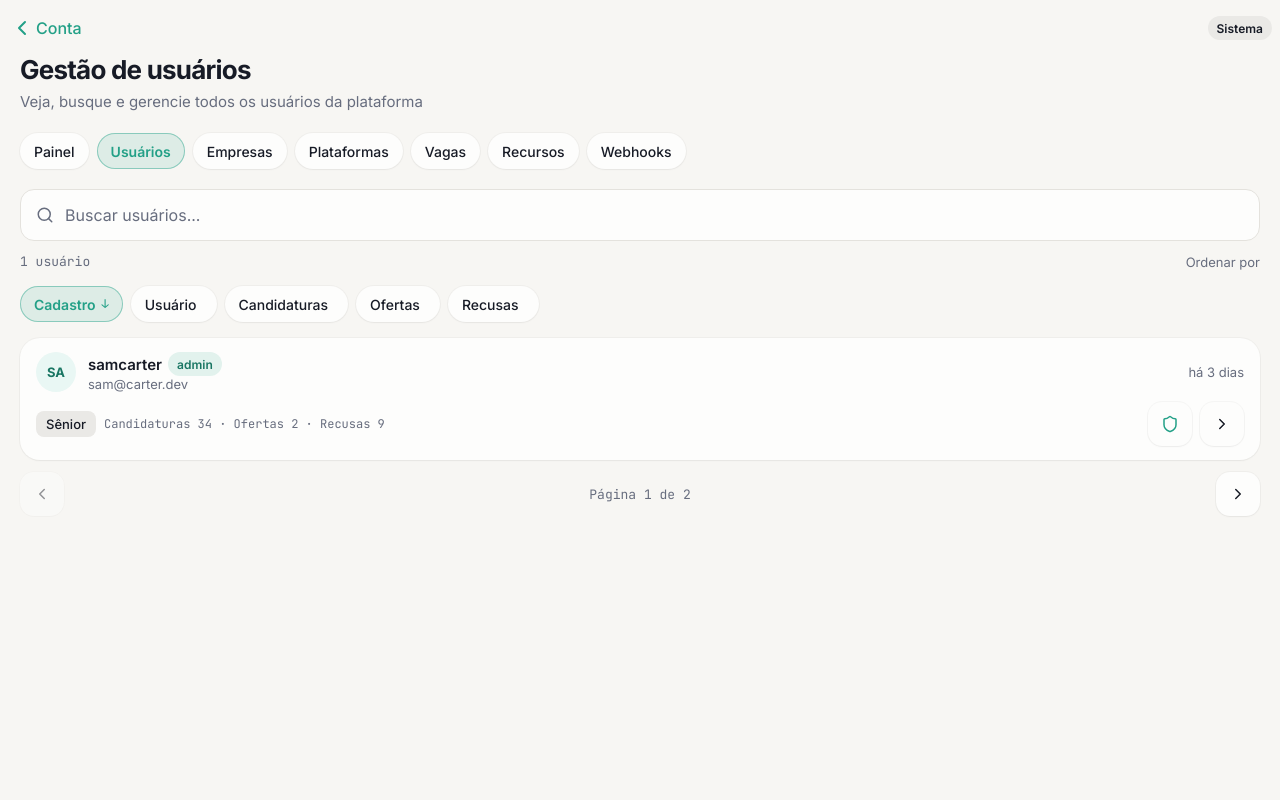
the v3 admin boards in Portuguese below md › Users, with a user's details open
Expected: the text "samcarter" is shown, 88,355 -> 162,374
Expected: the text "1 usuário" is shown, 20,253 -> 90,270
Click the button named "Ver detalhes do usuário" at coordinates (1222, 424), box 1200,402 -> 1244,446
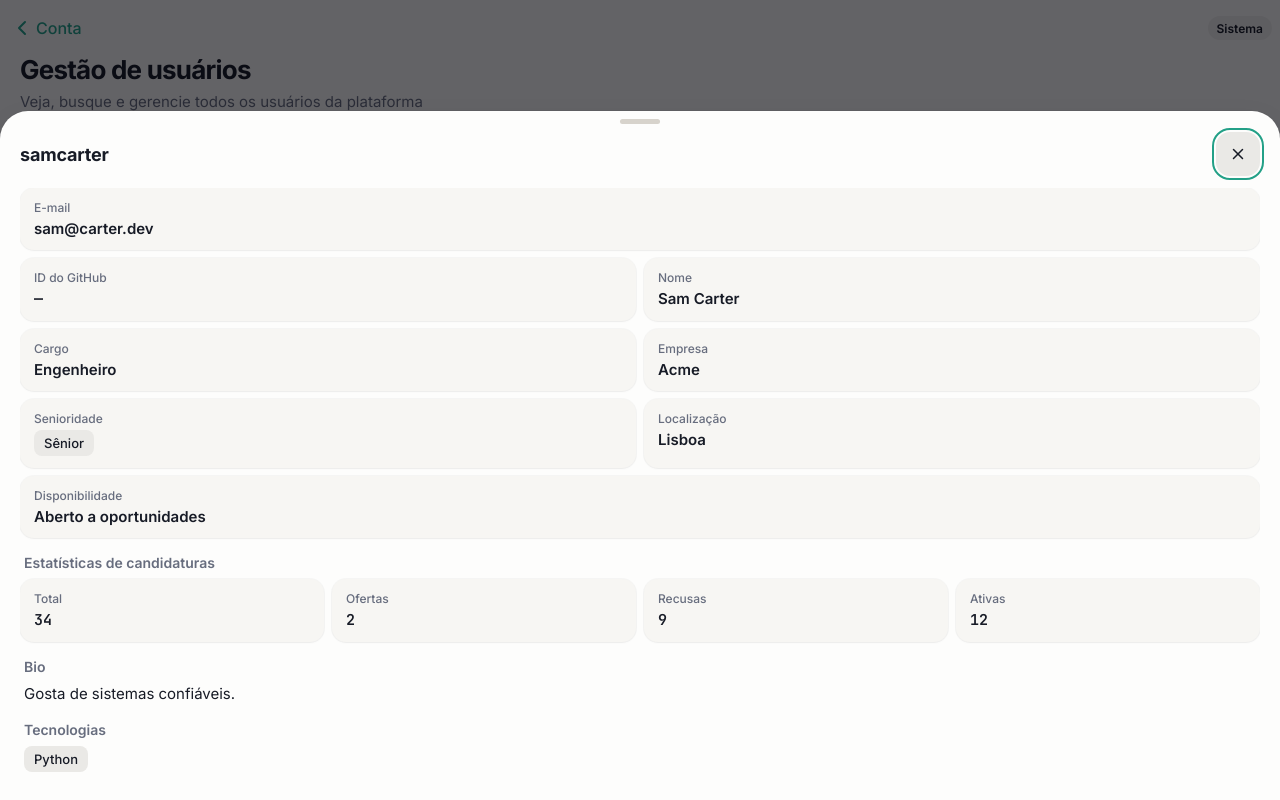
Expected: the text "E-mail" is shown, 34,200 -> 70,214
Expected: the text "ID do GitHub" is shown, 34,270 -> 107,284
Expected: the text "Nome" is shown, 658,270 -> 692,284
